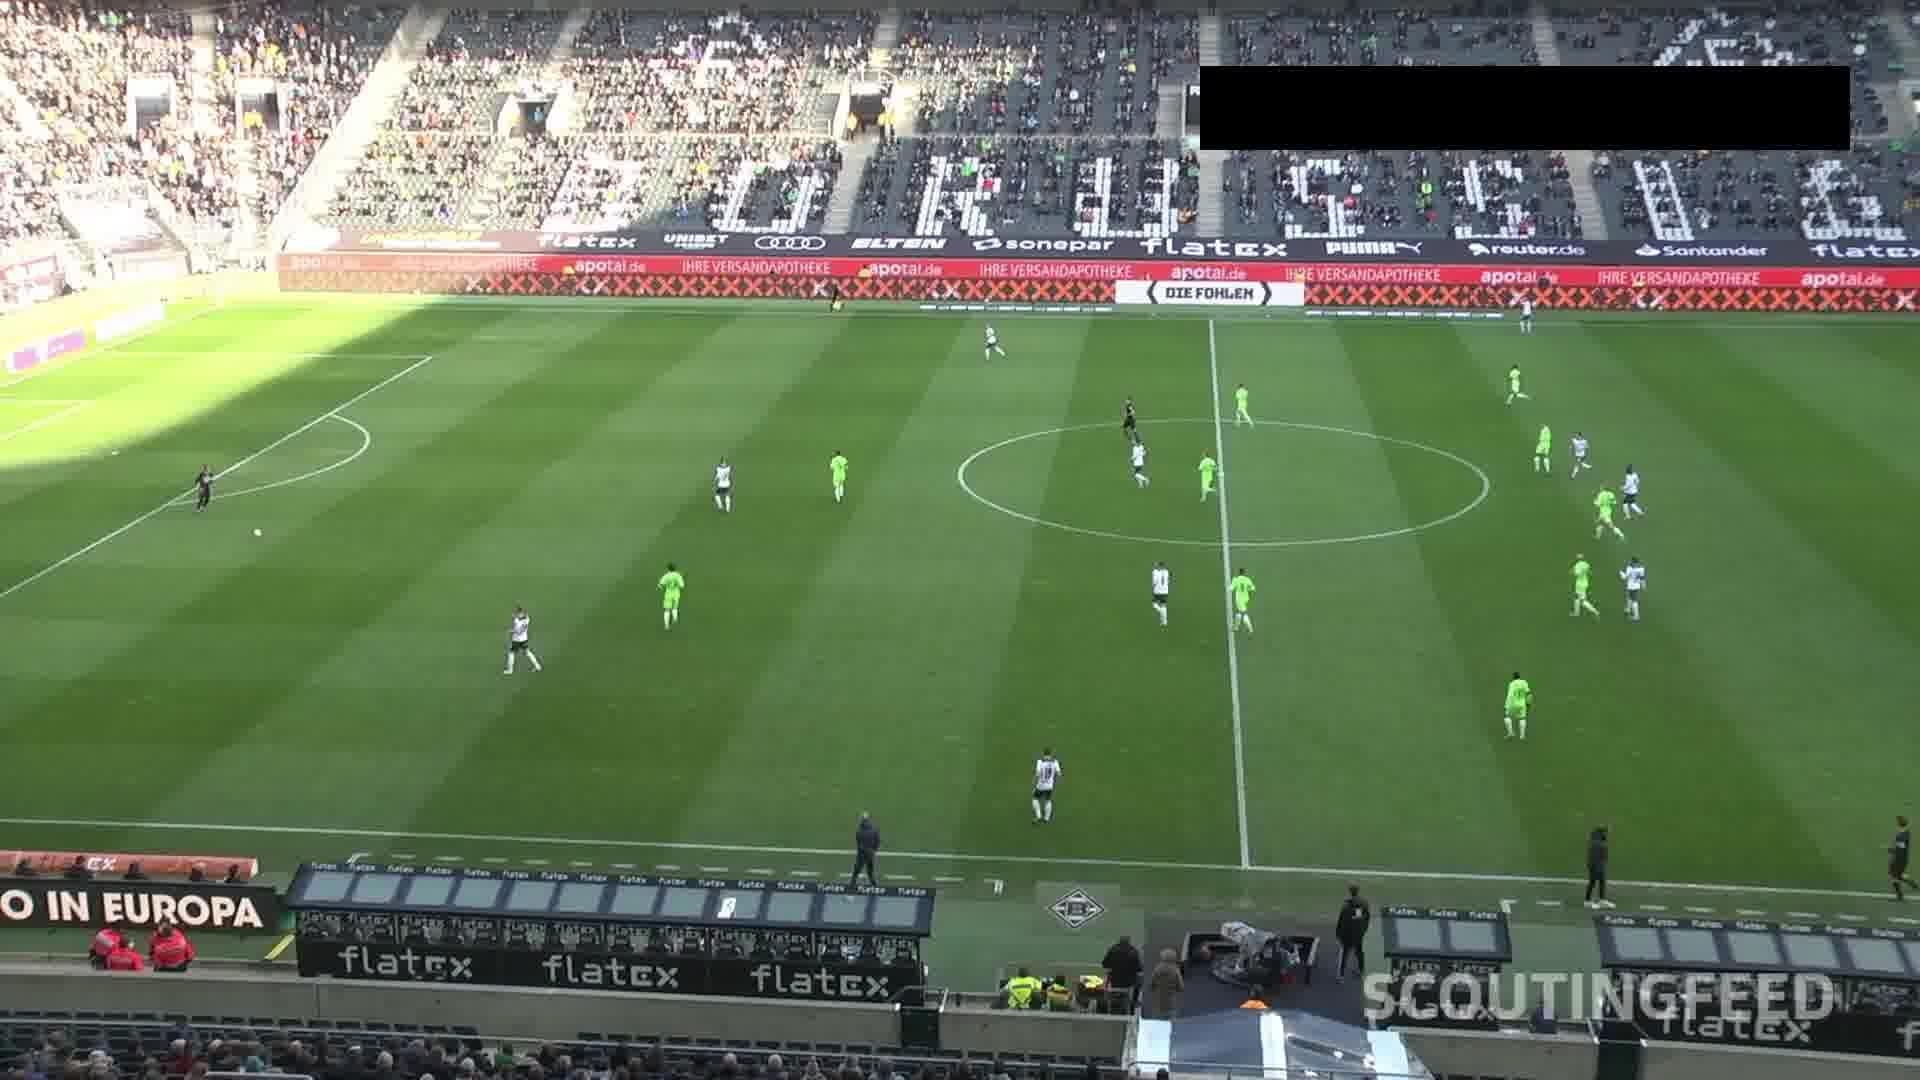football: (252, 527, 264, 537)
